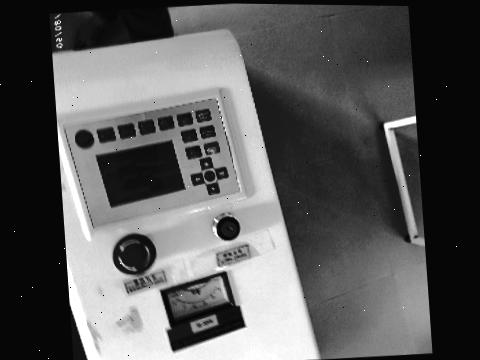Amp_Meter: (161, 273, 234, 325)
Display: (95, 141, 183, 206)
Down_button: (198, 158, 211, 170)
Emergency_Stop: (111, 235, 154, 275)
Enter_button: (203, 142, 219, 155)
Esc_button: (184, 146, 201, 159)
File_button: (175, 113, 192, 127)
Frame_button: (198, 126, 214, 139)
Left_button: (190, 173, 203, 185)
Max-Power_button: (157, 117, 173, 130)
Min-Power_button: (137, 121, 154, 134)
Origin_button: (180, 130, 196, 143)
Power_switch: (216, 217, 238, 239)
Pulse_button: (96, 129, 114, 142)
Reset_button: (74, 131, 92, 147)
Right_button: (214, 167, 227, 180)
Speed_button: (117, 125, 134, 138)
Start-Pause_button: (194, 110, 210, 122)
Up_button: (205, 183, 218, 195)
Z_U_button: (203, 171, 214, 181)
